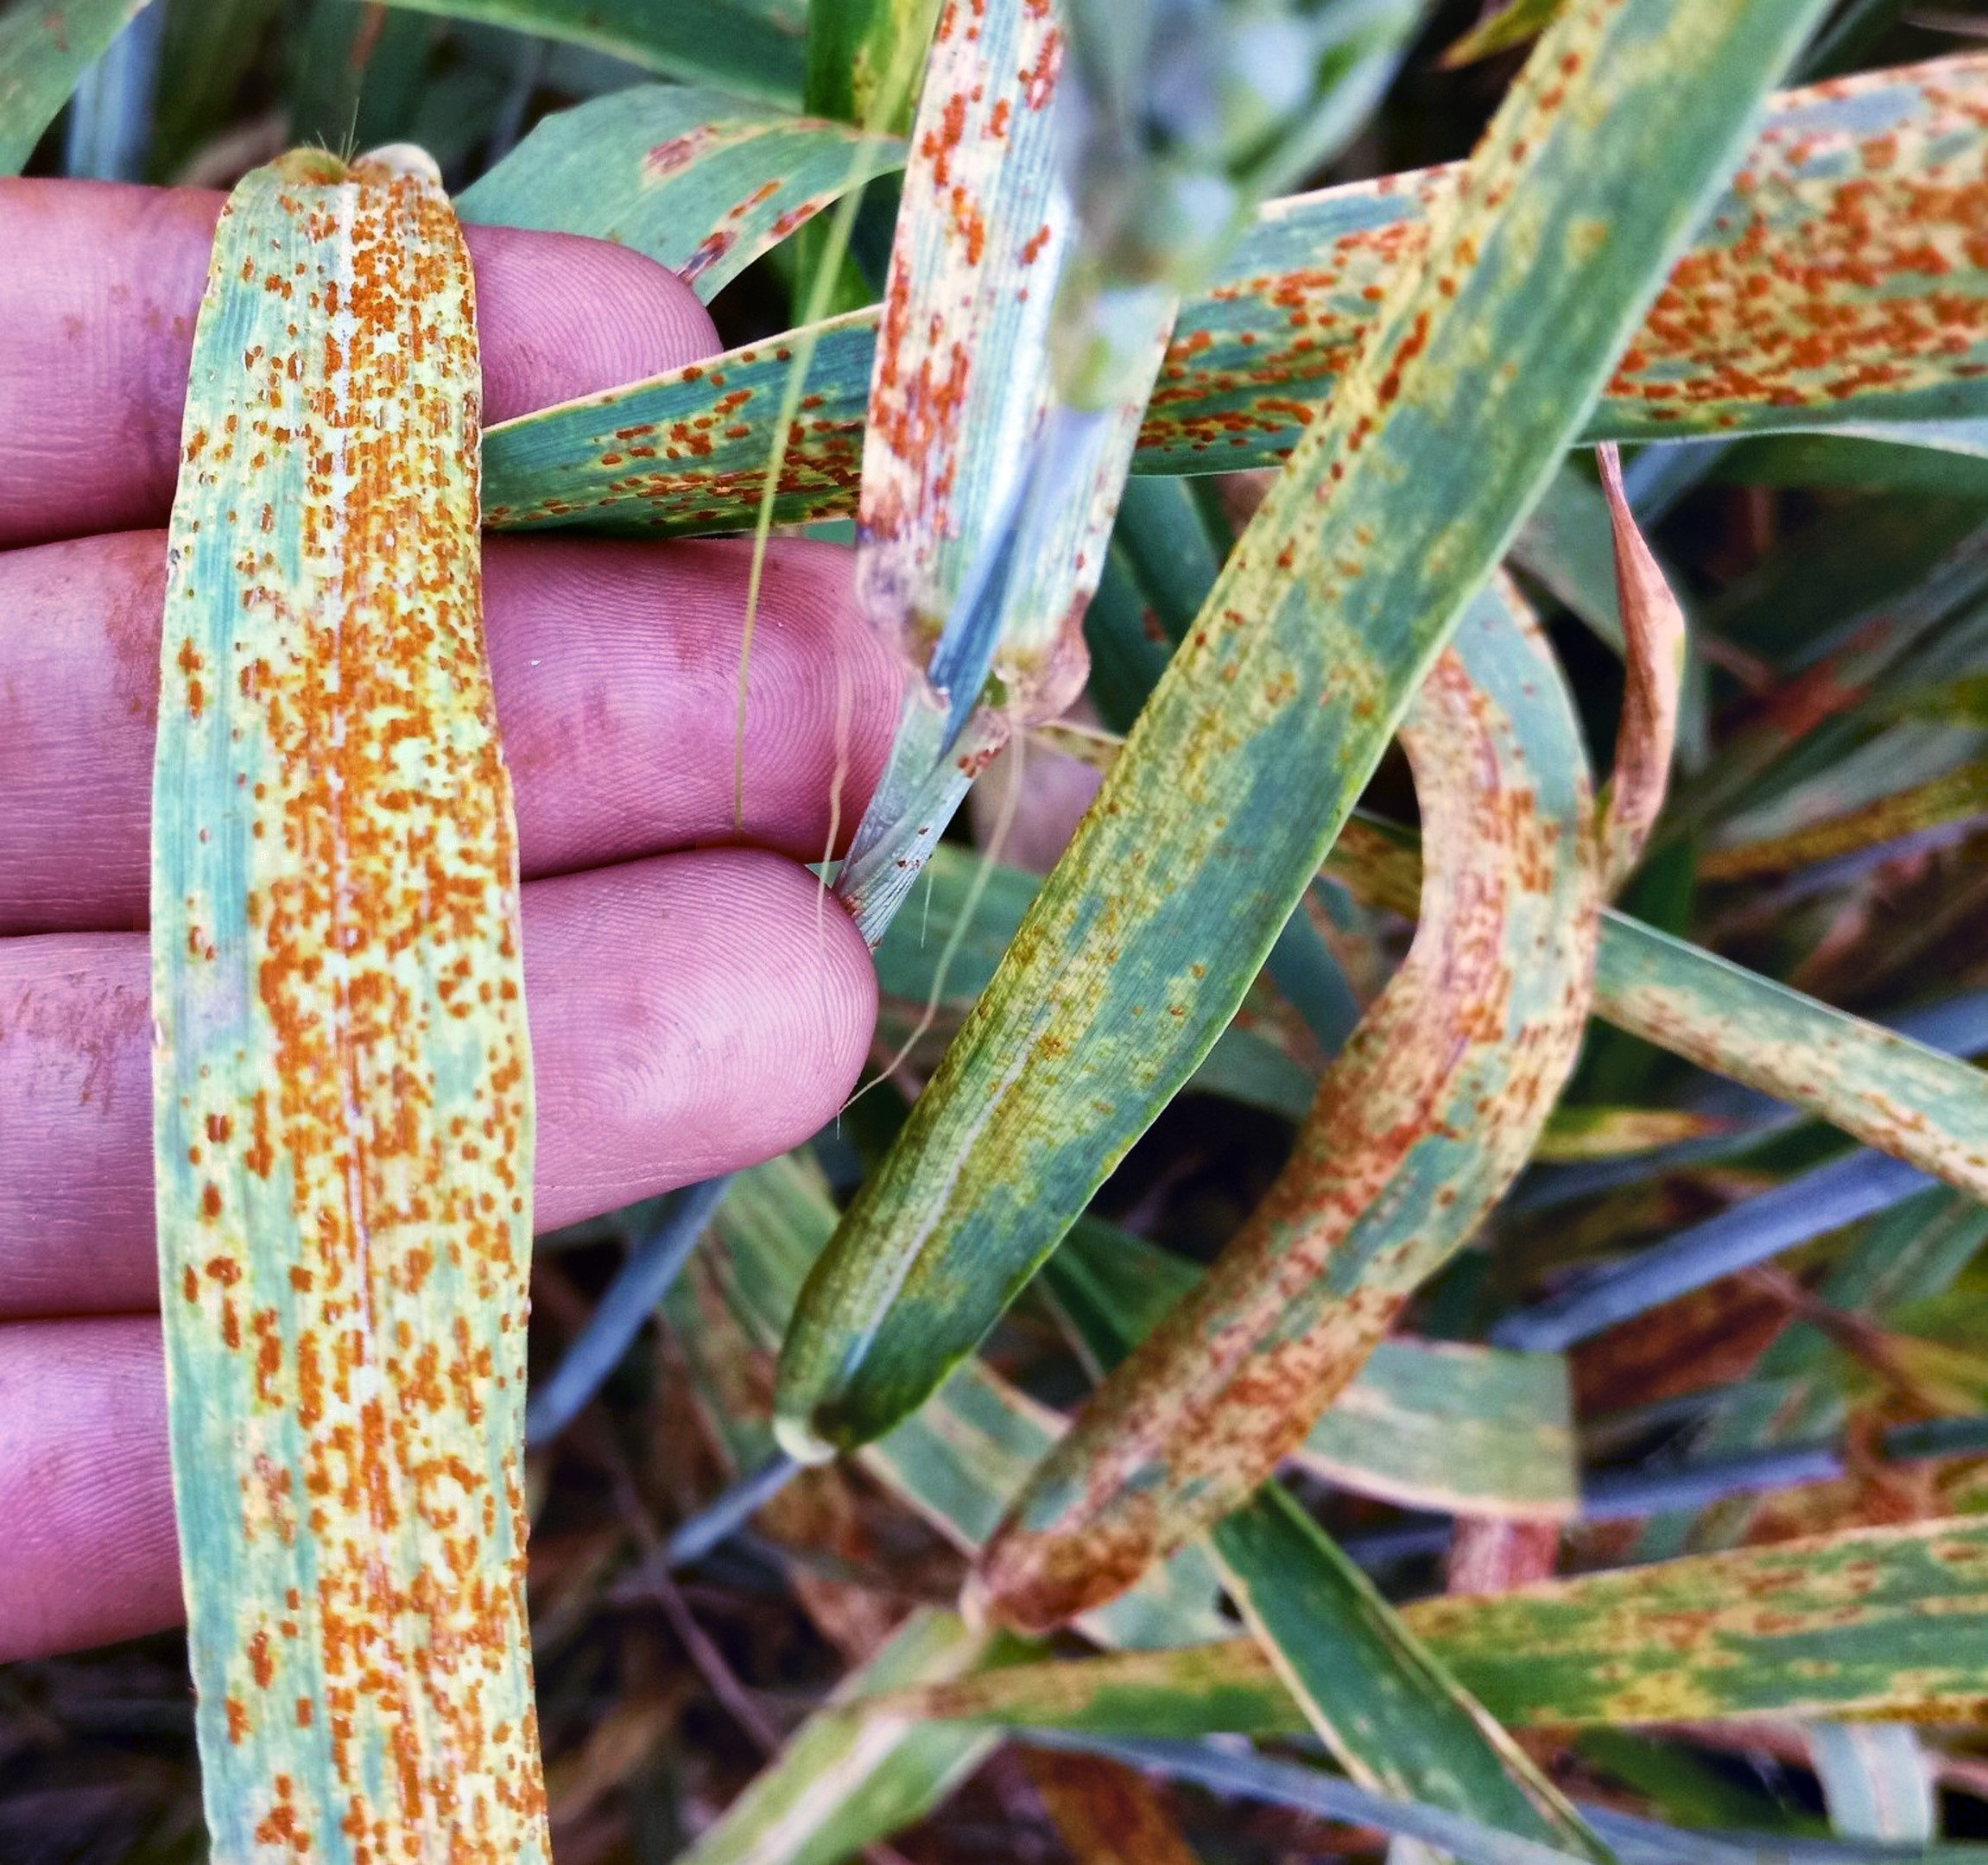Leaf Rust: (116, 272, 557, 1786)
